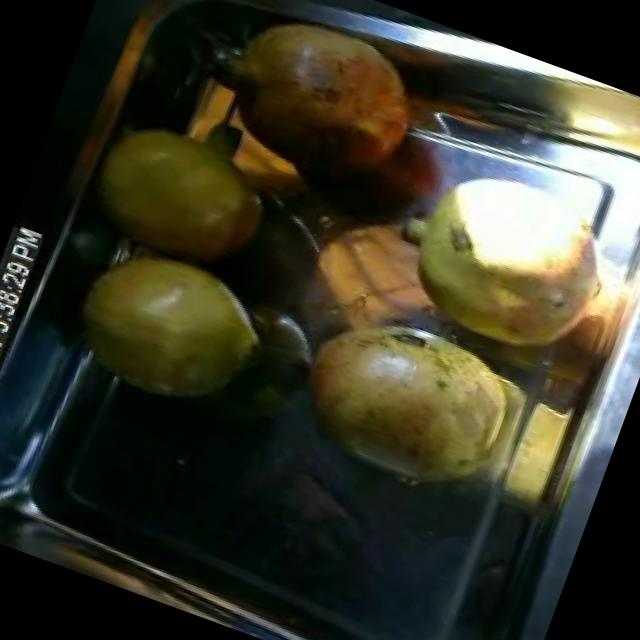fruit: (256, 276, 548, 528), (364, 130, 640, 390), (186, 0, 460, 215), (68, 72, 316, 300), (50, 216, 296, 434)
